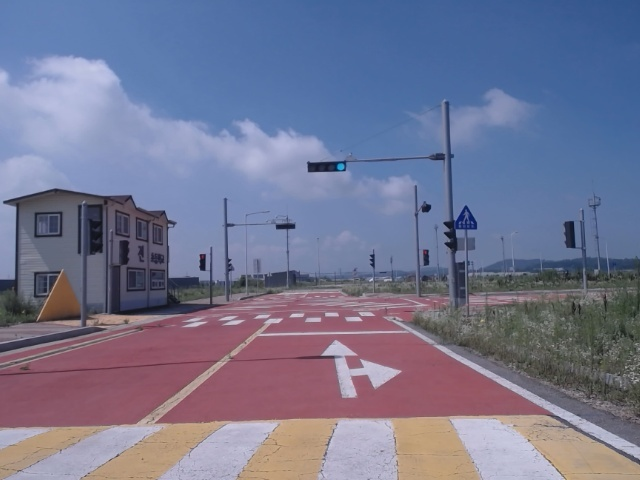straight_green_4: (307, 163, 346, 173)
